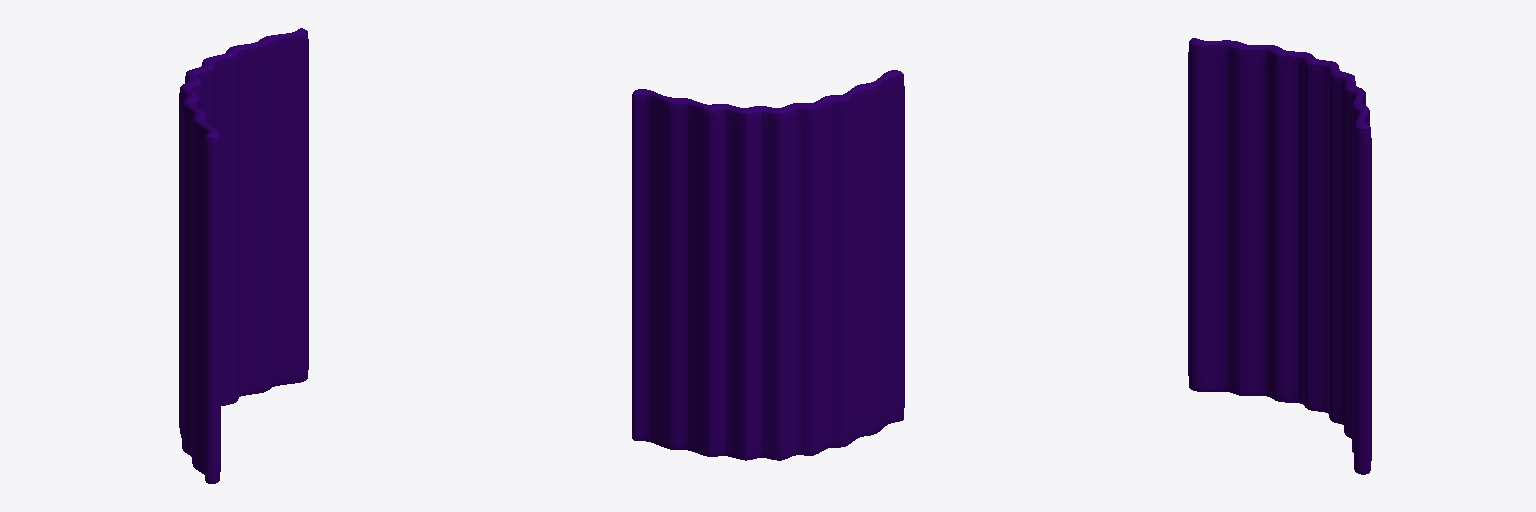
Rendered from piratecovecurtain.obj.
3 renders of one model, left to right at view 1: azimuth 30°, elevation 25°; view 2: azimuth 150°, elevation 25°; view 3: azimuth 270°, elevation 25°, orthographic.
Parts seen in each view (by area): view 1: curtainright; view 2: curtainright; view 3: curtainright.
Boxes of the visible parts, <box> form: curtainright: <box>179,28,308,483</box>; curtainright: <box>632,70,904,460</box>; curtainright: <box>1188,38,1371,474</box>.
Size of the model in its own units: 2.35 by 4.2 by 1.99.